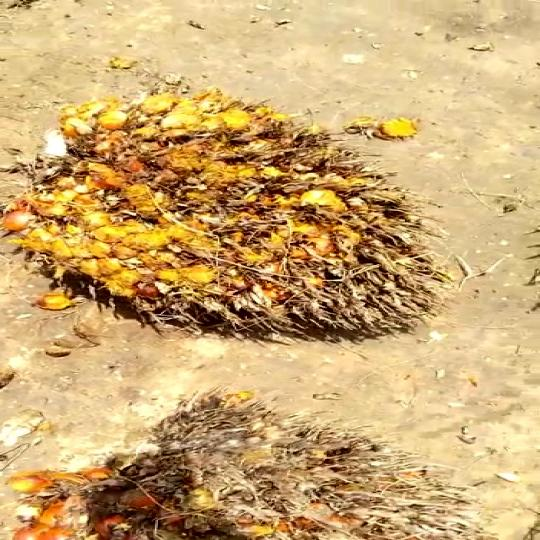terlalu masak: (0, 98, 471, 354)
